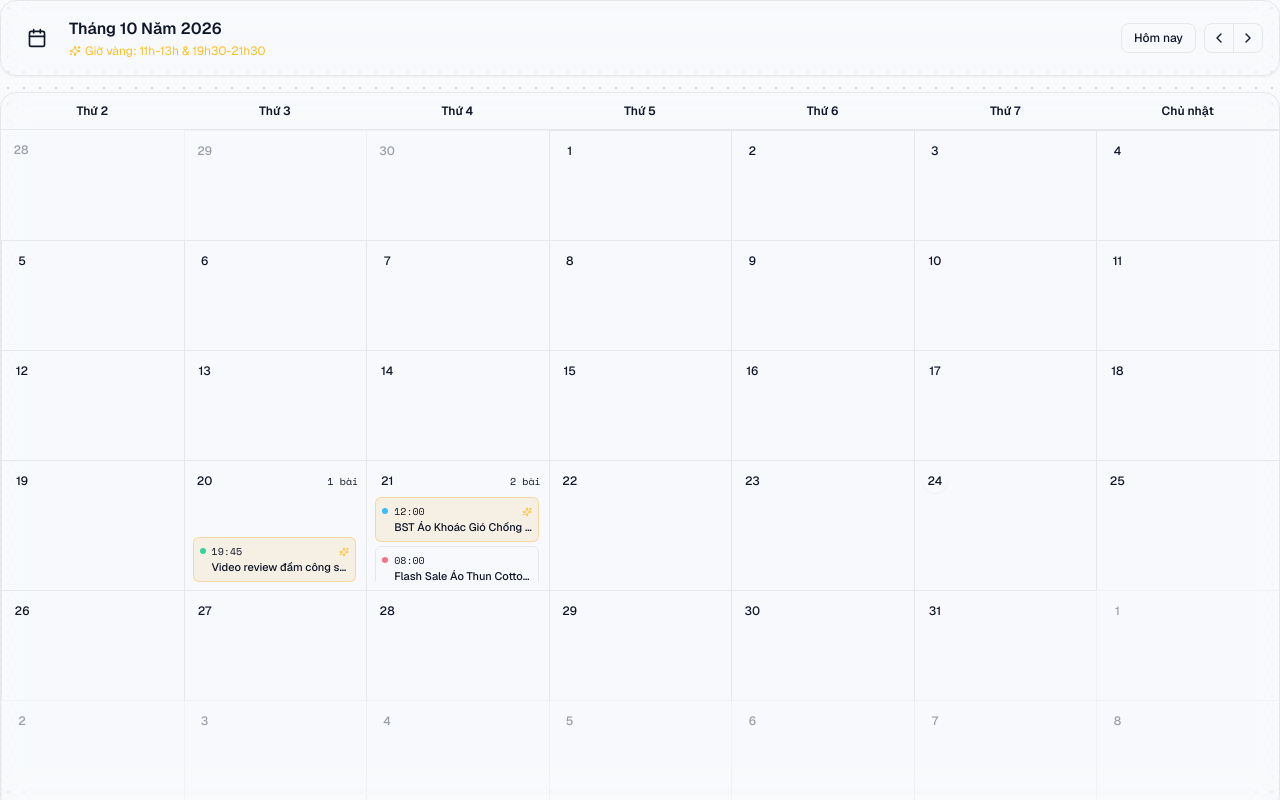
Scheduled Posts Management Subsystem (TASK-16) › PostsCalendarView Component › click vào thẻ bài viết trên lịch mở modal chi tiết
Click the button with test id "calendar-post-post_1" at x=457, y=519, box [375,497,539,542]
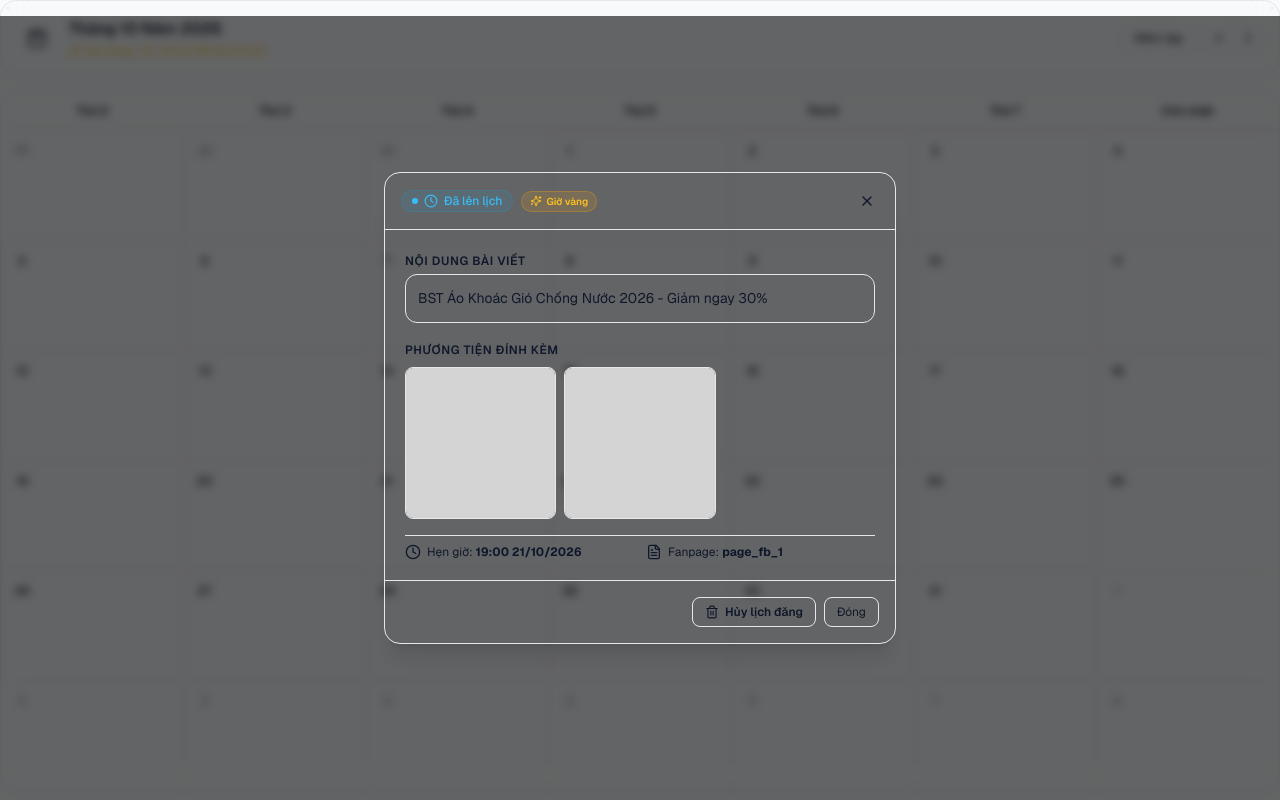
Now the element with test id "calendar-post-modal" is shown
Đóng modal
Click the button with test id "close-modal-btn" at x=867, y=202, box [855,190,879,214]
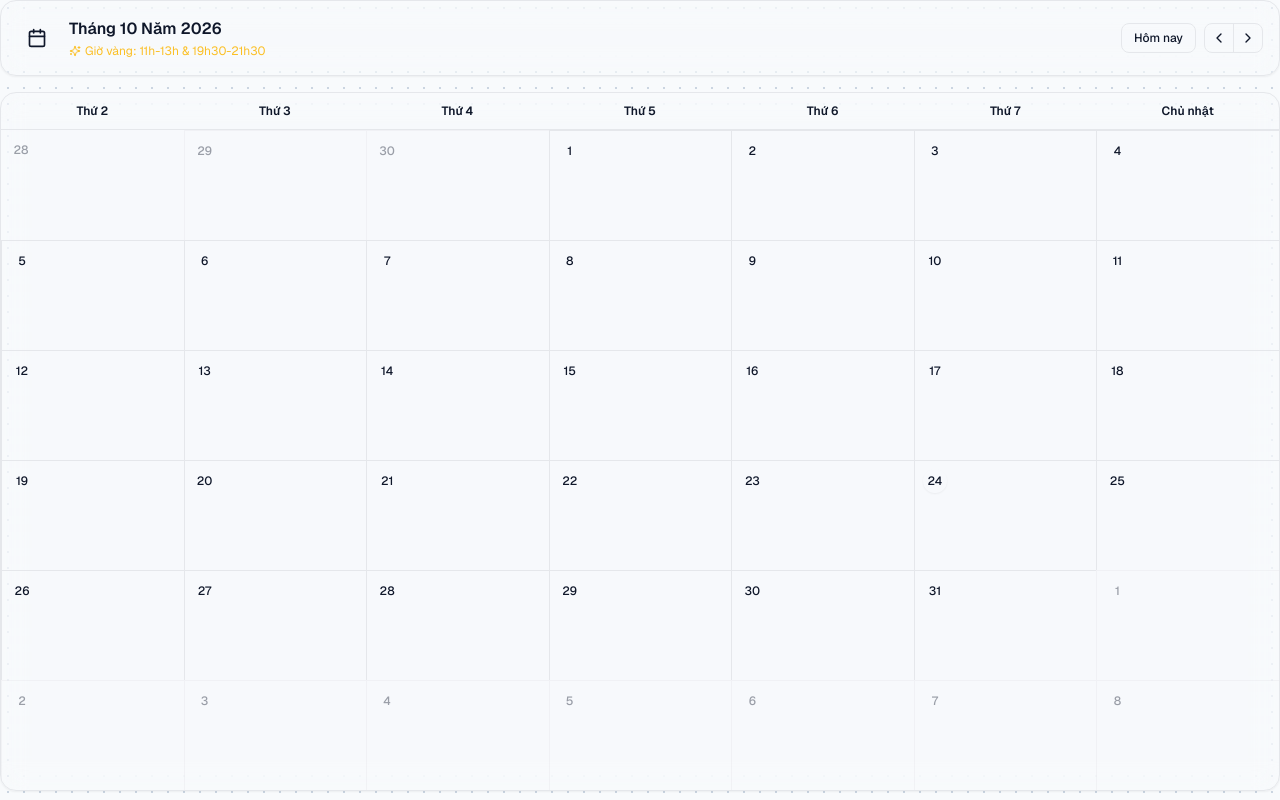
Now the element with test id "calendar-post-modal" is gone
